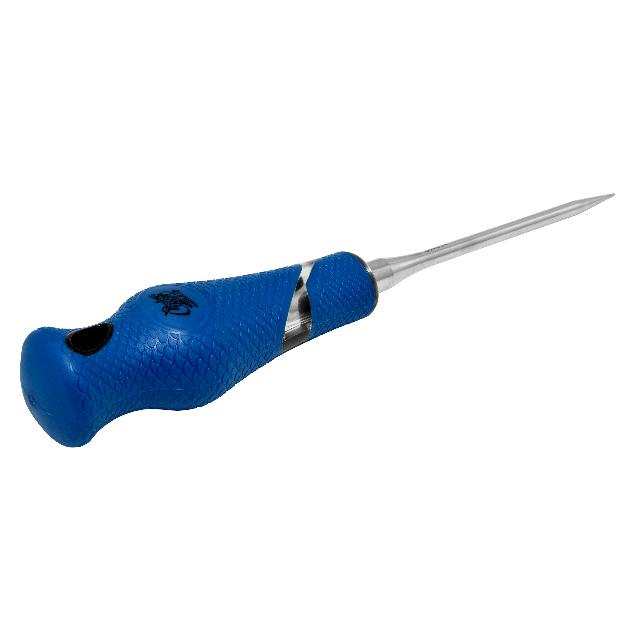ice pick: (19, 194, 615, 448)
